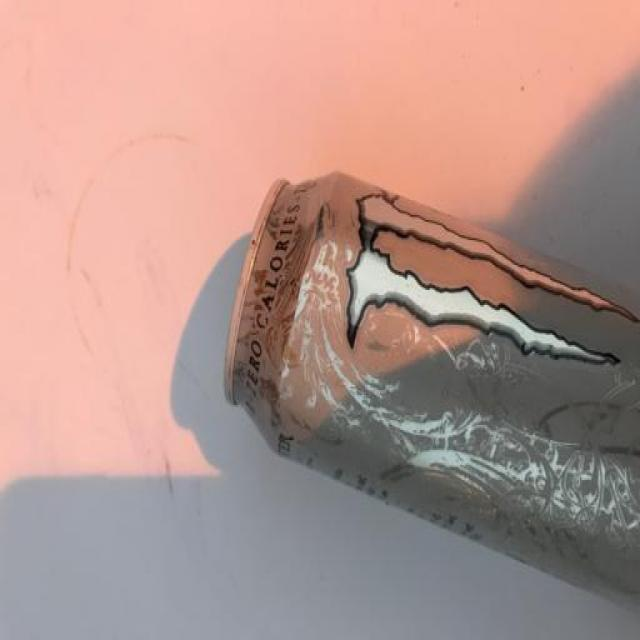metel: (205, 156, 640, 640)
